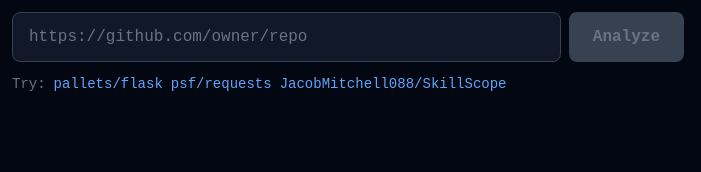
Scenario: RepoUrlForm › analyze button enables when url is typed
The width and height of the screenshot is (701, 172).
Type "https://github.com/test/repo" into the field with placeholder "https://github.com/owner/repo" at (286,37), box [12,12,561,62]
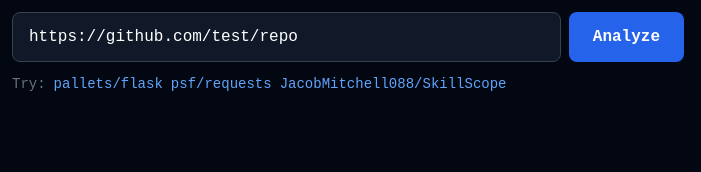
Expected: the button "Analyze" is enabled, [569,12,684,62]
